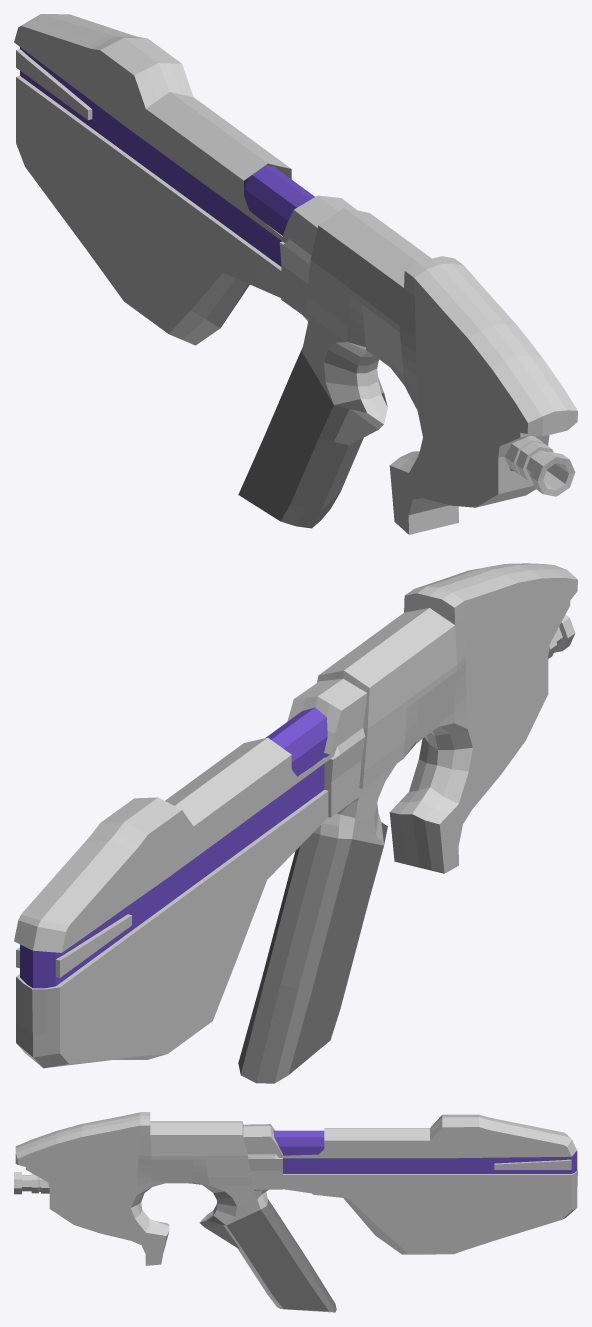
Rendered from Lazer_Gun.fbx.
3 views of the same model, one above another, from view 1: azimuth 30°, elevation 25°; view 2: azimuth 150°, elevation 25°; view 3: azimuth 270°, elevation 25° (orthographic). The views are drawn at different scales.
Parts seen in each view (by area): view 1: Gun, Active Effect, Barrle; view 2: Gun, Active Effect; view 3: Gun, Active Effect, Barrle.
Boxes of the visible parts, x1,y1,x2,y2 form: Gun: (14,14,577,534); Active Effect: (245,165,314,235); Barrle: (504,435,575,496); Gun: (14,563,577,1083); Active Effect: (266,707,329,776); Gun: (15,1112,577,1312); Active Effect: (273,1130,324,1155); Barrle: (14,1172,49,1194).
Bounding box in the file's own units: 2.39 × 14.48 × 38.02.
